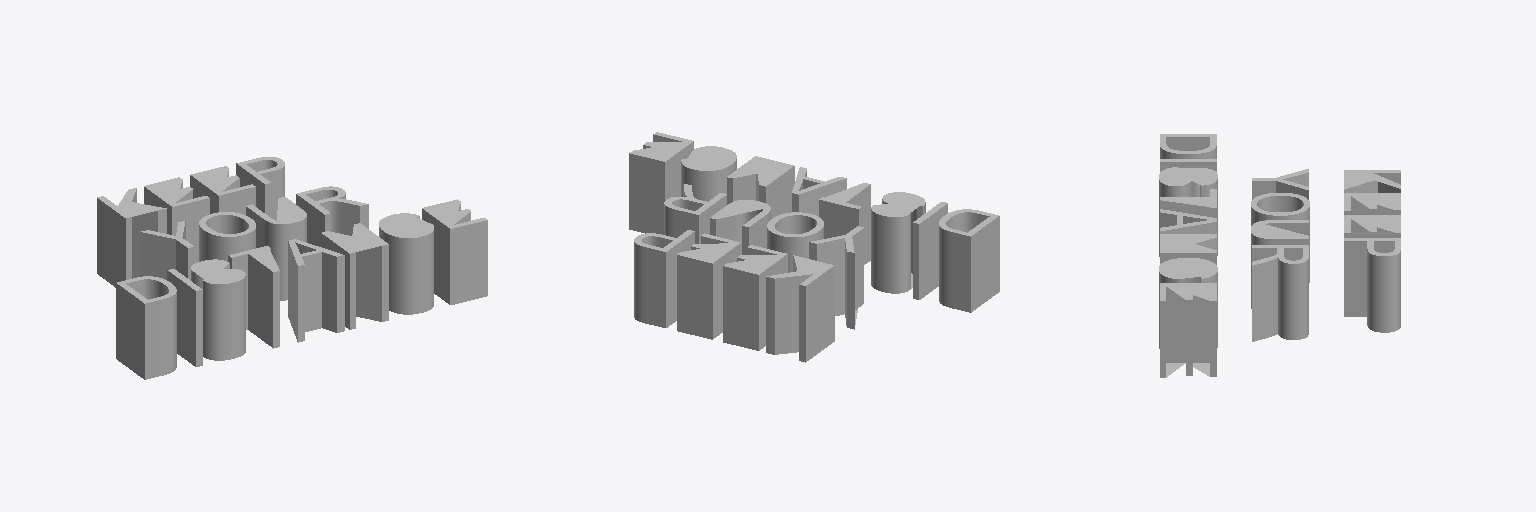
The model's file is kyd.obj.
3 views of the same model, side by side, from view 1: azimuth 30°, elevation 25°; view 2: azimuth 150°, elevation 25°; view 3: azimuth 270°, elevation 25° (orthographic).
Size of the model in its own units: 275 by 58.52 by 169.